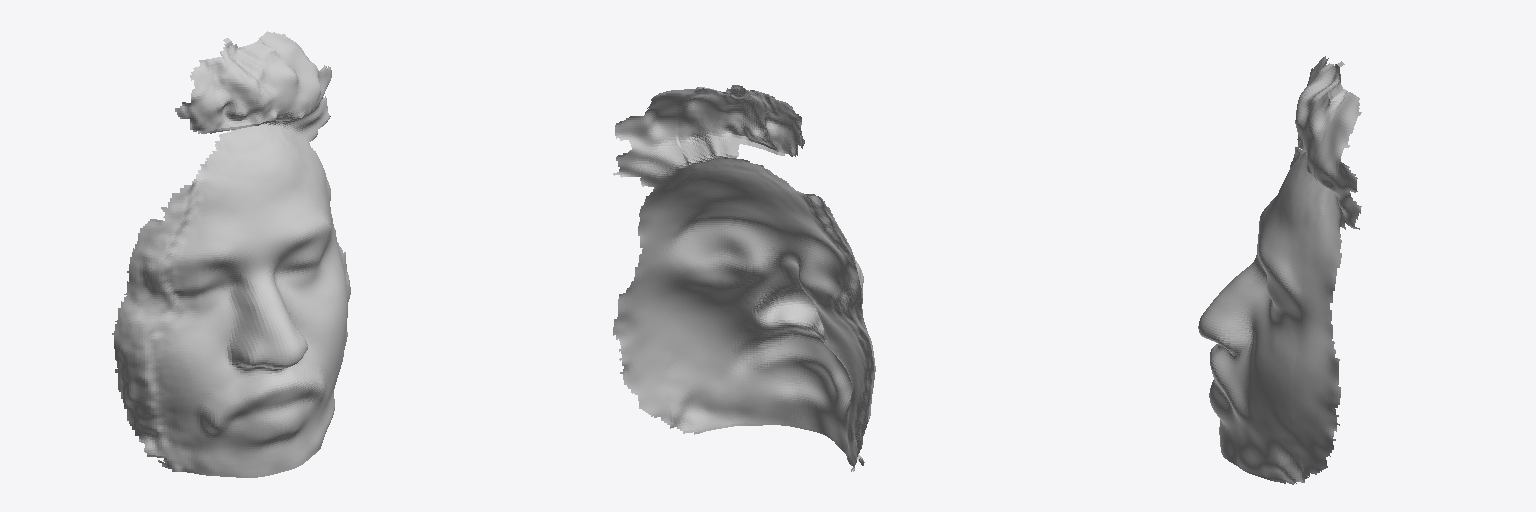
Rendered from mymodel.obj.s.obj.
3 renders of one model, left to right at view 1: azimuth 30°, elevation 25°; view 2: azimuth 150°, elevation 25°; view 3: azimuth 270°, elevation 25°, orthographic.
Size of the model in its own units: 1.22 by 1.8 by 0.6872.